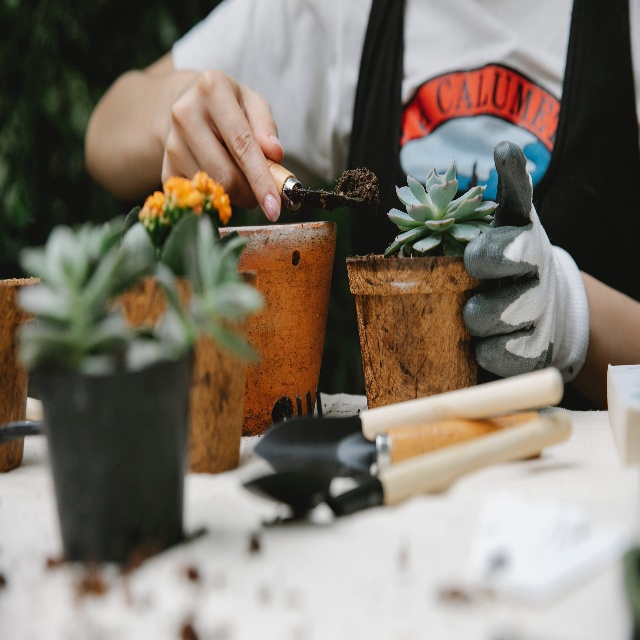Guantes: (462, 139, 590, 382)
Sin_guantes: (159, 67, 283, 225)
